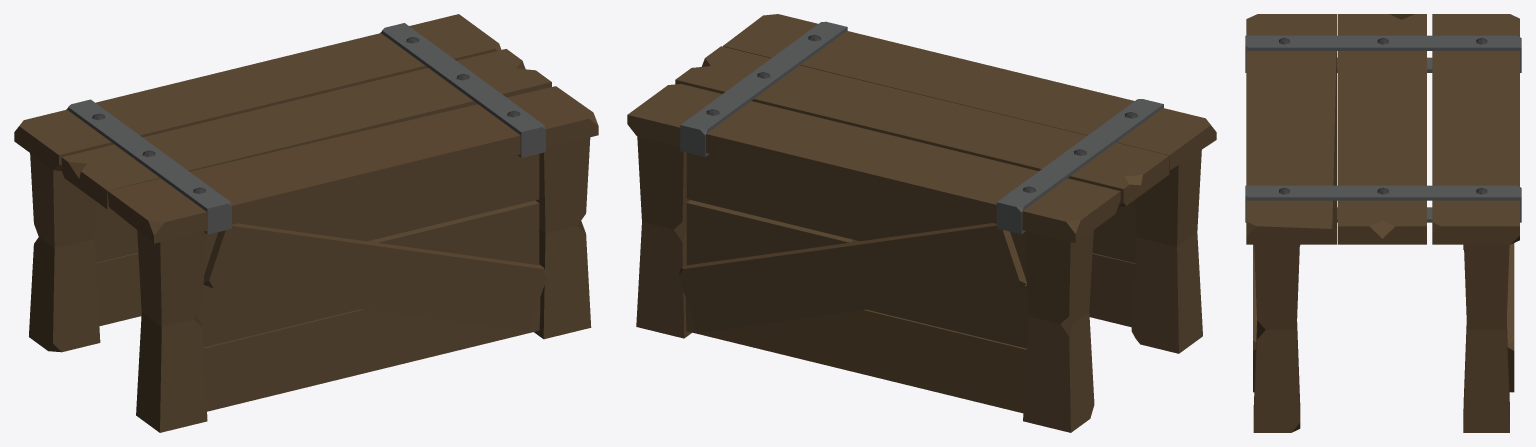
File: Table_2.fbx
3 renders of one model, left to right at view 1: azimuth 30°, elevation 25°; view 2: azimuth 150°, elevation 25°; view 3: azimuth 270°, elevation 25°, orthographic. The views are drawn at different scales.
Visible parts, largest first — view 1: Table_2; view 2: Table_2; view 3: Table_2.
Part boxes in pixels (x1,y1,x2,y2): Table_2: (14,14,598,432); Table_2: (627,14,1216,432); Table_2: (1245,14,1521,432).
Bounding box in the file's own units: 222 × 104 × 122.
